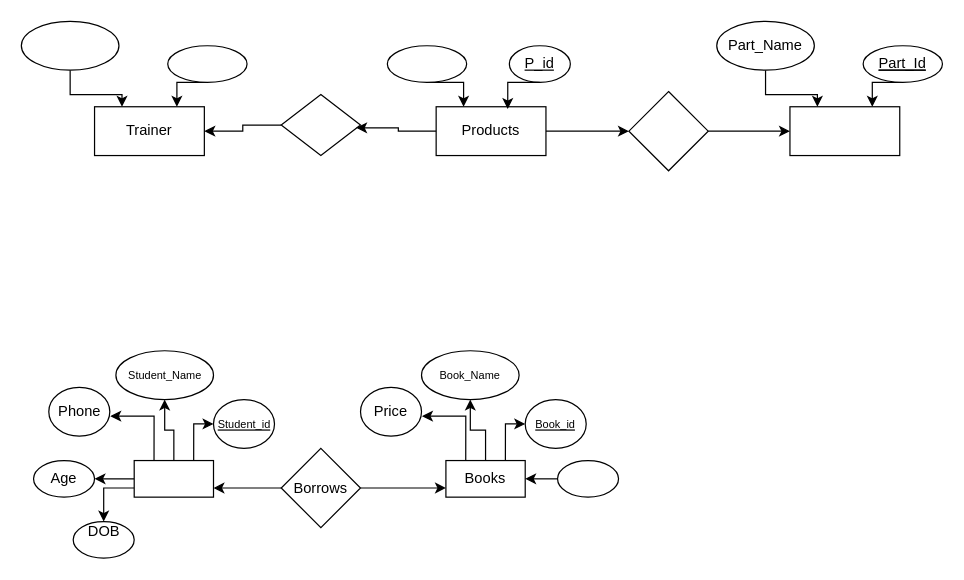
Some shapes in this 964 by 580 pixel diagram are drawn without their labels. Each missing label, with the box of its shape:
Author: (556, 459, 619, 497)
Composed_of: (628, 90, 708, 171)
P_Name: (386, 45, 467, 82)
Parts: (789, 106, 900, 156)
Student: (133, 459, 214, 497)
Trainer_Id: (167, 45, 247, 82)
Trains_on: (280, 93, 361, 156)
Triner_Name: (20, 20, 119, 70)
